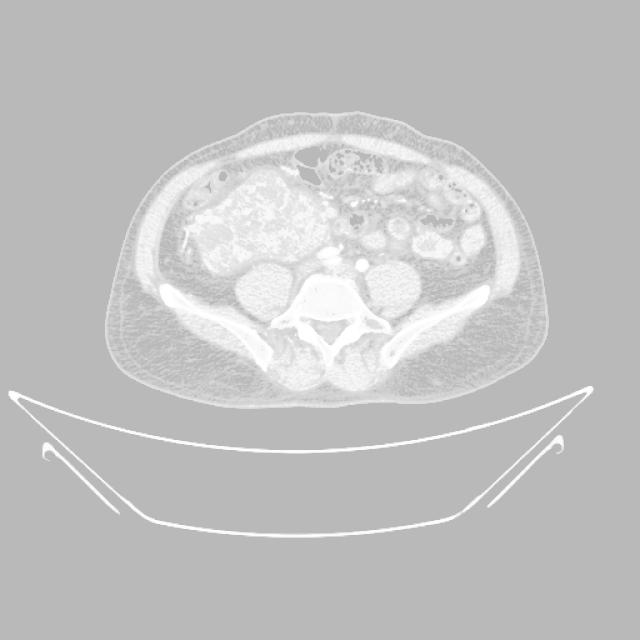TUMOR: (132, 150, 516, 323)
